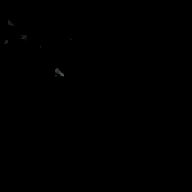v: (1, 17, 26, 45)
